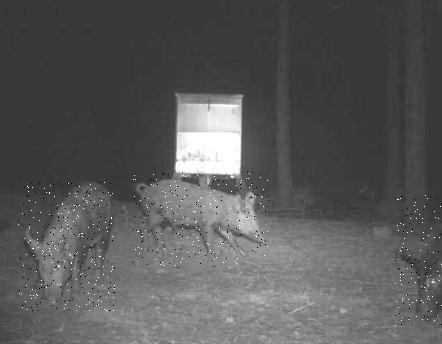Hog: (133, 172, 269, 268), (18, 181, 115, 311), (395, 194, 442, 328)
